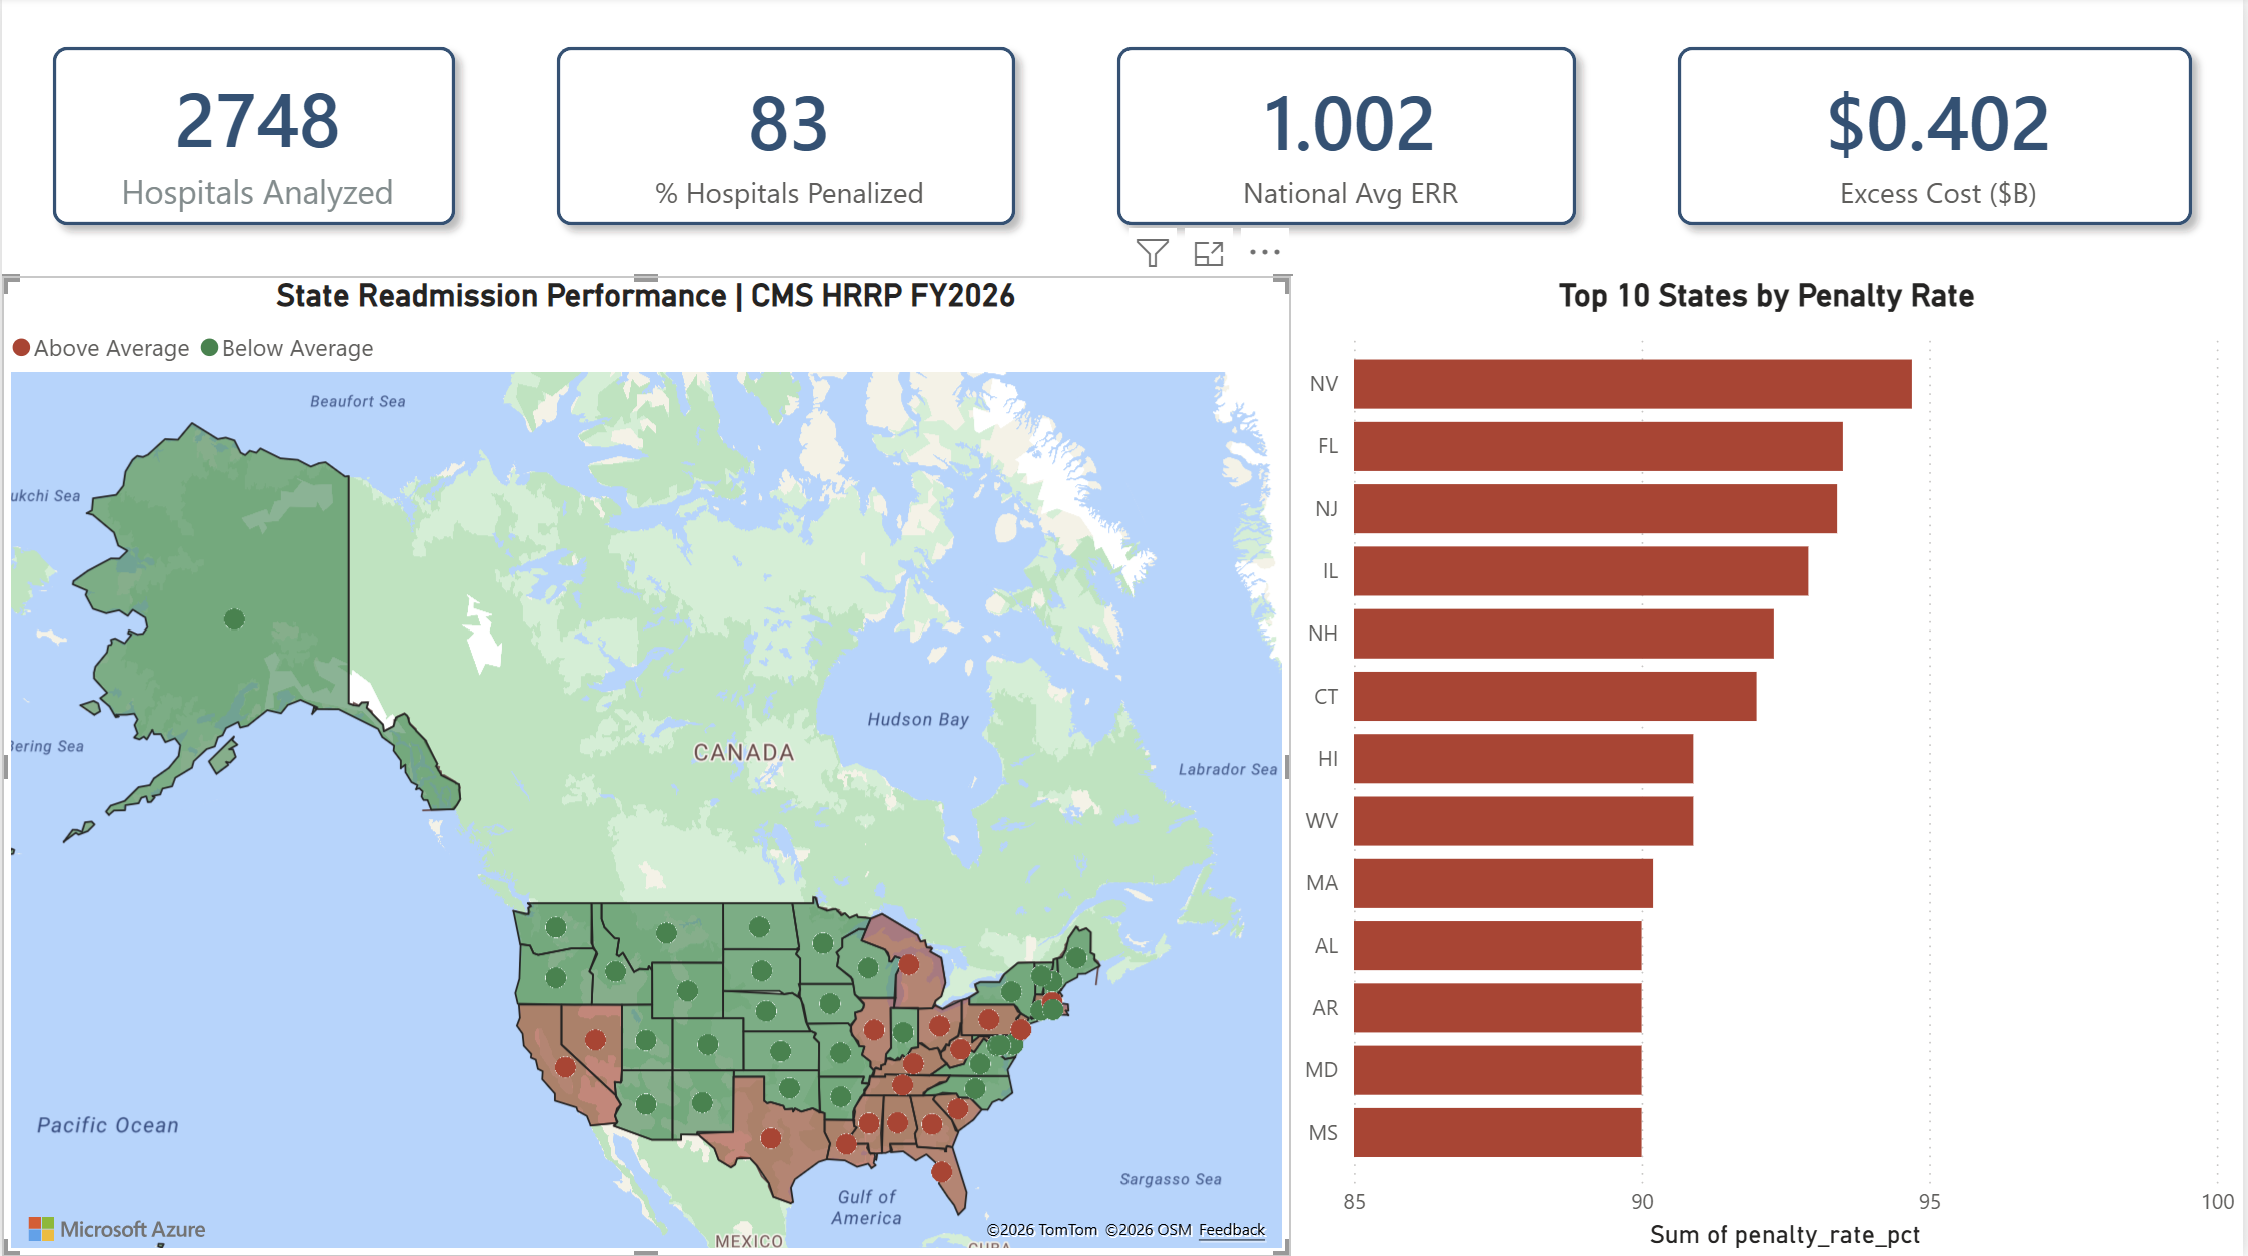

The page's visual inventory and layout, read from the dashboard file:
{"tool":"powerbi","page":{"name":"Executive Overview","canvas":[1280,720],"ordinal":0},"visuals":[{"type":"cardVisual","fields":{"Data":["vw_executive_kpis.EO - Hospitals Analyzed"]},"box":[0,0,288,160],"z":0},{"type":"cardVisual","fields":{"Data":["vw_executive_kpis.EO - National Avg ERR"]},"box":[608,0,320,160],"z":1000},{"type":"cardVisual","fields":{"Data":["vw_executive_kpis.EO - Hospitals Penalized Pct"]},"box":[288,0,320,160],"z":2000},{"type":"cardVisual","fields":{"Data":["vw_executive_kpis.EO - Excess Cost"]},"box":[928,0,352,160],"z":3000},{"type":"azureMap","title":"State Readmission Performance | CMS HRRP FY2026","fields":{"Category":["vw_state_summary.state"],"Series":["vw_state_summary.performance_band"],"Size":["Sum(vw_state_summary.state_avg_err)"]},"box":[0,160,736,560],"z":4000},{"type":"clusteredBarChart","title":"Top 10 States by Penalty Rate","fields":{"Category":["vw_state_summary.state"],"Y":["Avg(vw_state_summary.penalty_rate_pct)"]},"box":[736,160,544,560],"z":5000}]}

Visuals, with their boxes in screenshot pixels (x1, y1, x2, y2), scaled from the page's 1280x720 canvas onto the 2248x1256 screenshot:
cardVisual - vw_executive_kpis.EO - Hospitals Analyzed: box=[0, 0, 506, 279]
cardVisual - vw_executive_kpis.EO - National Avg ERR: box=[1068, 0, 1630, 279]
cardVisual - vw_executive_kpis.EO - Hospitals Penalized Pct: box=[506, 0, 1068, 279]
cardVisual - vw_executive_kpis.EO - Excess Cost: box=[1630, 0, 2247, 279]
"State Readmission Performance | CMS HRRP FY2026" azureMap: box=[0, 279, 1293, 1255]
"Top 10 States by Penalty Rate" clusteredBarChart: box=[1293, 279, 2247, 1255]
